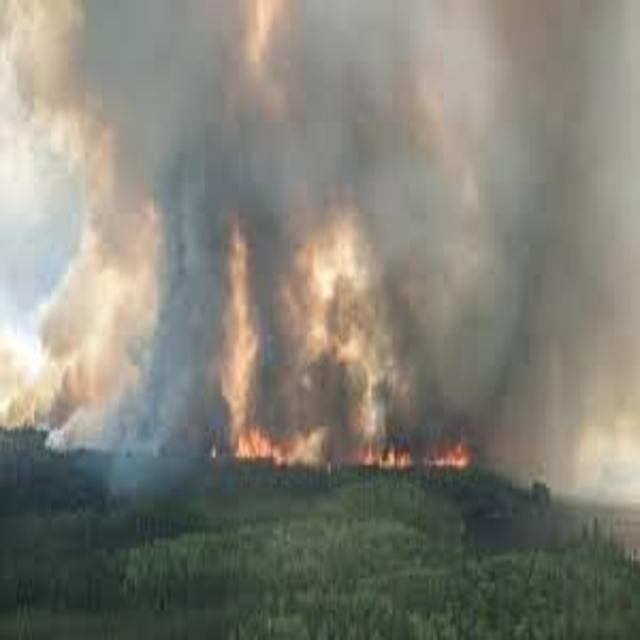Fire: (220, 420, 482, 493)
Smoke: (6, 4, 640, 398)
